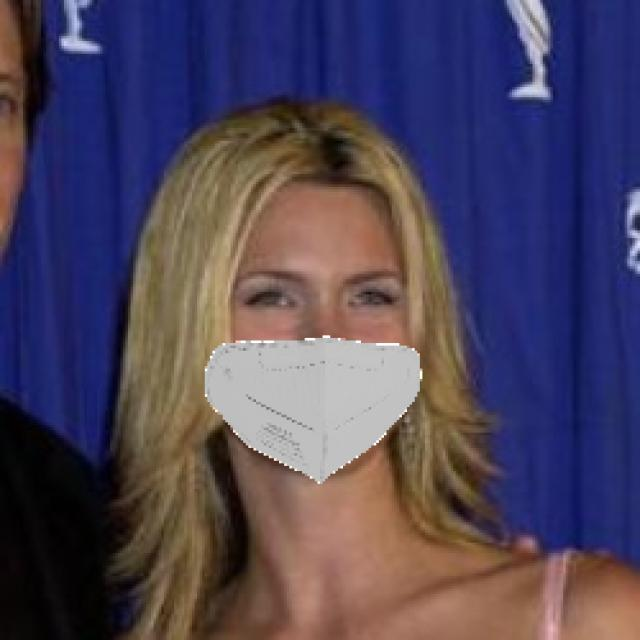mask: (196, 317, 433, 492)
